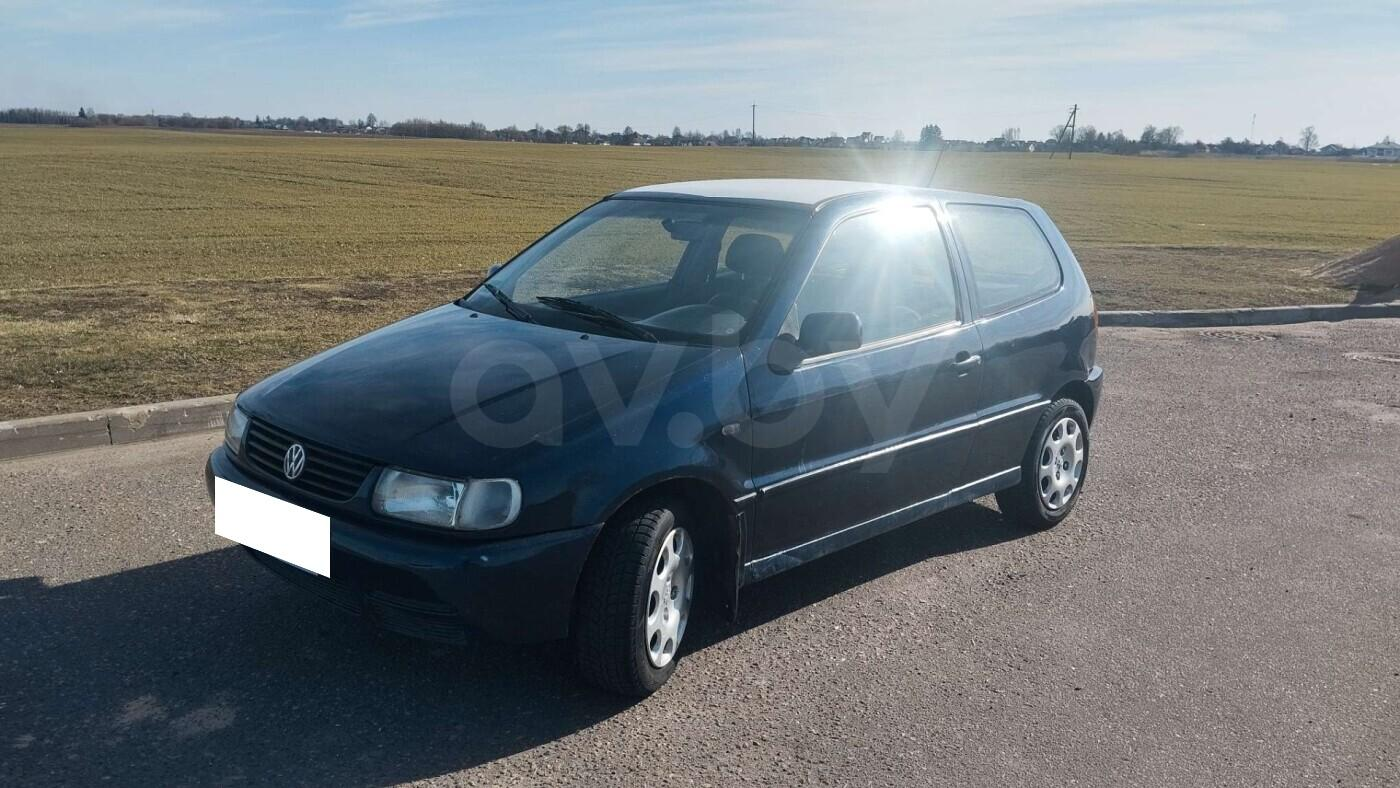Polo_1994-2002: (173, 173, 1128, 709)
